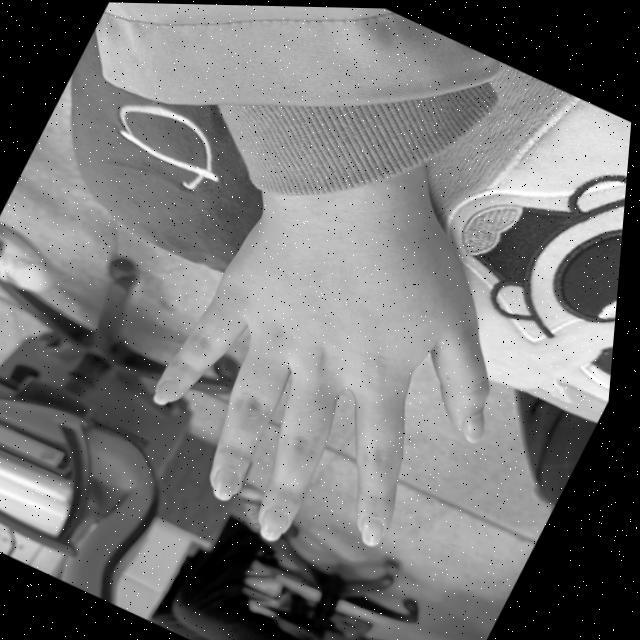no-gloves: (106, 164, 566, 606)
